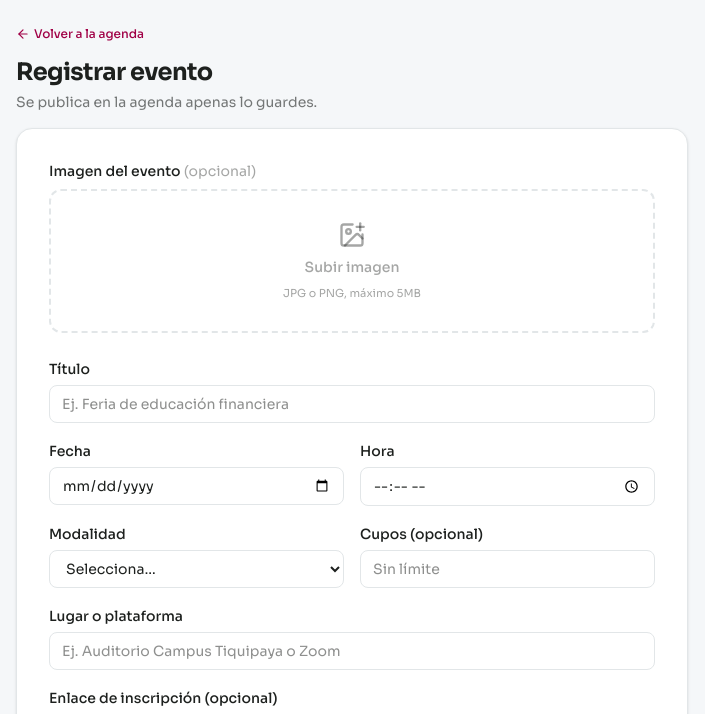
Test case: EventoForm — registro › no deja registrar con fecha pasada ni con un enlace inválido
This screenshot has width=705, height=714.
Type "Feria financiera" into the field labelled "Título" at x=352, y=404, box [49,385,655,423]
Type "2099-10-15" into the date field labelled "Fecha" at x=196, y=486, box [49,467,344,505]
Type "10:00" into the time field labelled "Hora" at x=508, y=486, box [360,467,655,506]
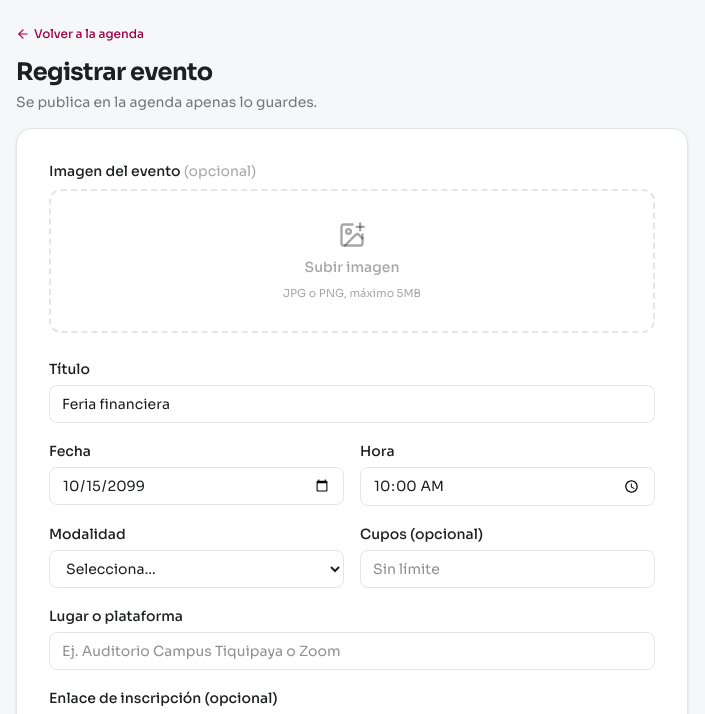
Select "Presencial" in the dropdown labelled "Modalidad" at x=196, y=569, box [49,550,344,588]
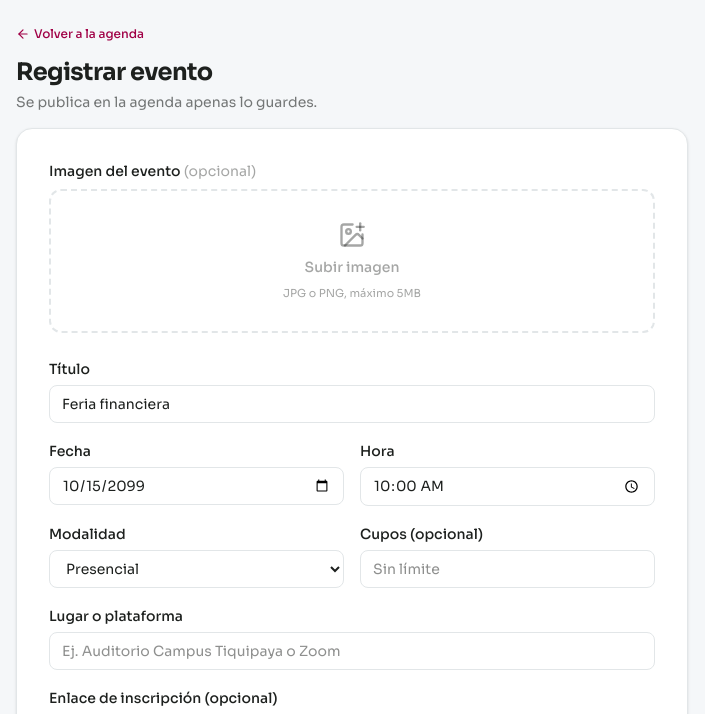
Type "Campus Tiquipaya" into the field labelled "Lugar o plataforma" at x=352, y=651, box [49,632,655,670]
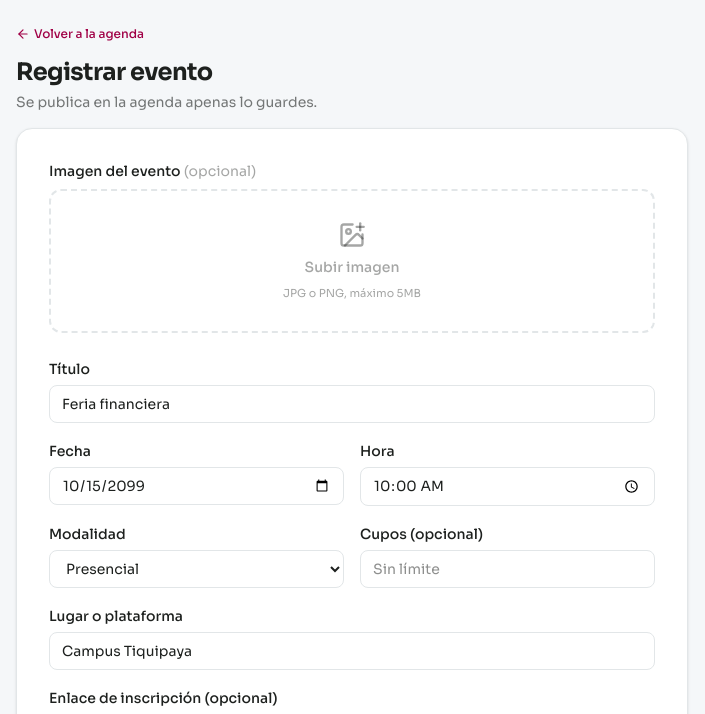
Type "2000-01-01" into the date field labelled "Fecha" at x=196, y=486, box [49,467,344,505]
(page scrolled)
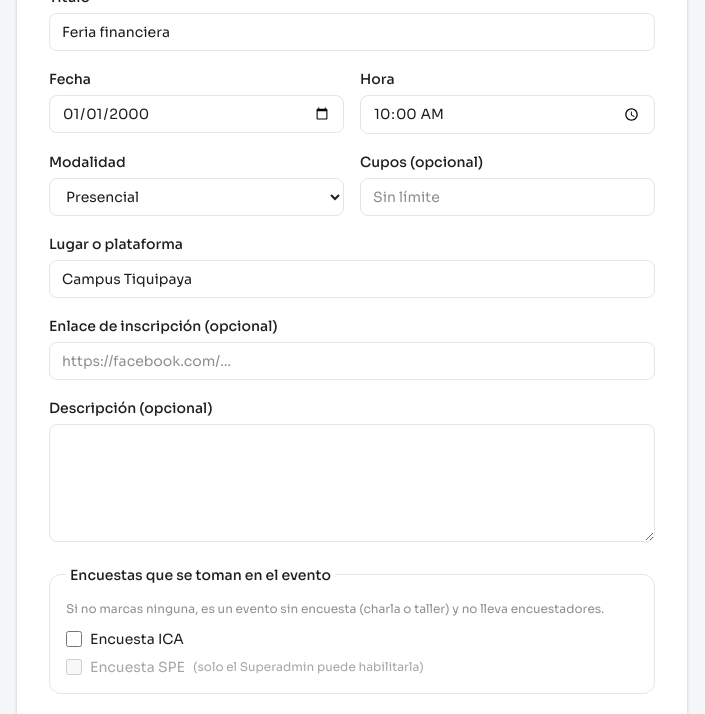
Type "facebook.com" into the field labelled "Enlace de inscripción (opcional)" at x=352, y=361, box [49,342,655,380]
(page scrolled)
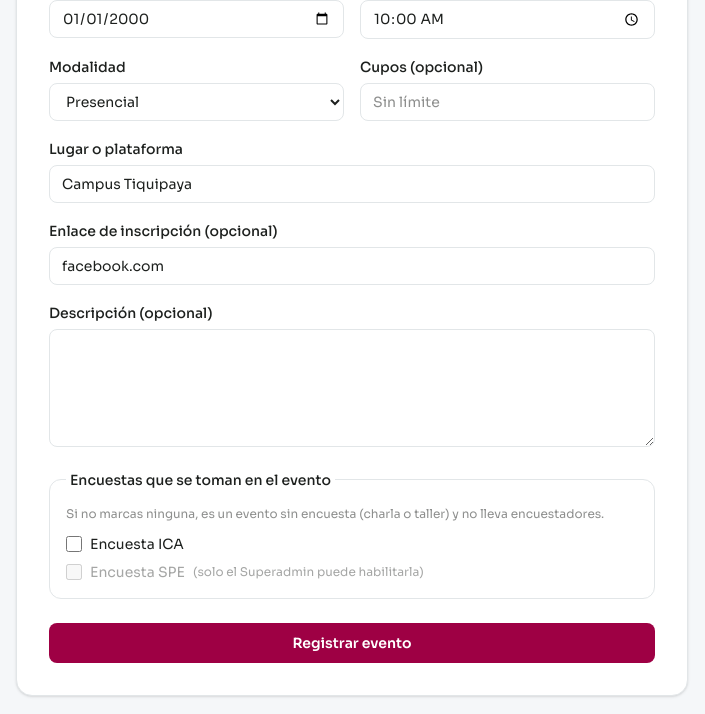
Click the button "Registrar evento" at x=352, y=643, box [49,623,655,663]
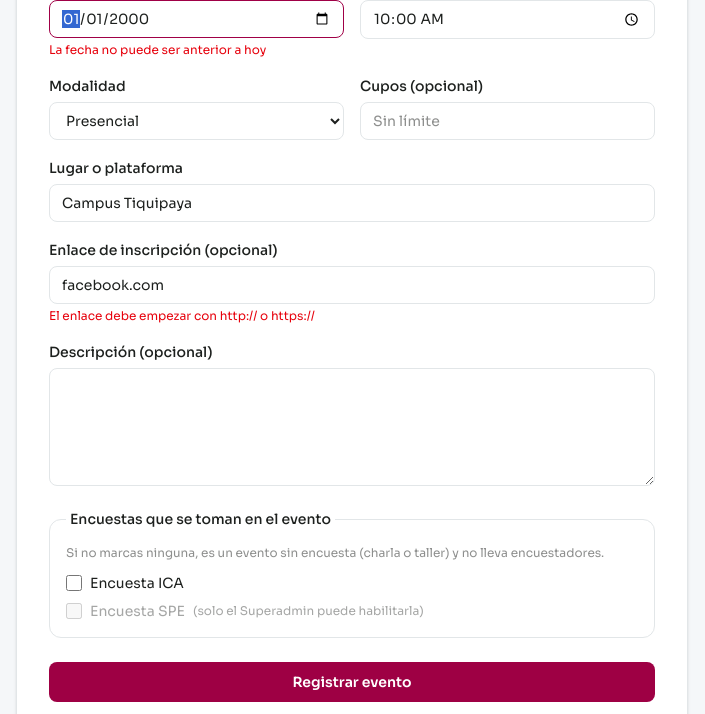
Now the text "La fecha no puede ser anterior a hoy" is shown, box [49,42,266,57]
Now the text "El enlace debe empezar con http:// o https://" is shown, box [49,308,315,323]
